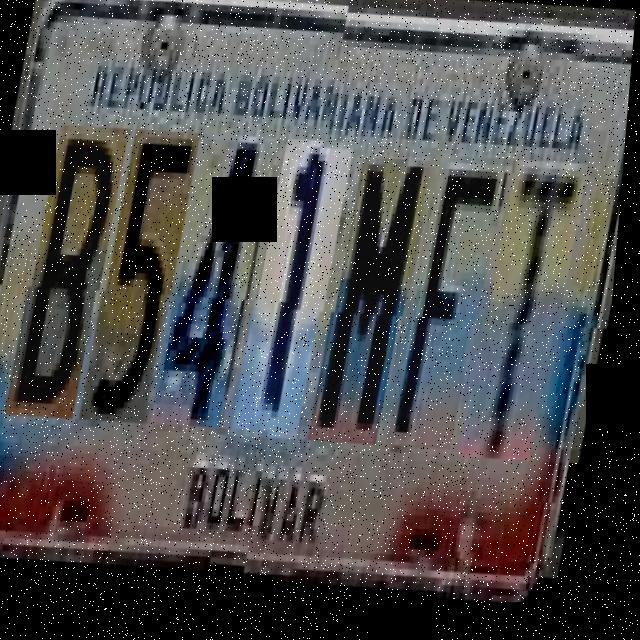1: (240, 144, 359, 446)
4: (159, 138, 278, 441)
5: (87, 134, 202, 435)
B: (12, 128, 131, 430)
F: (396, 156, 511, 457)
M: (318, 157, 435, 452)
T: (470, 160, 592, 470)
